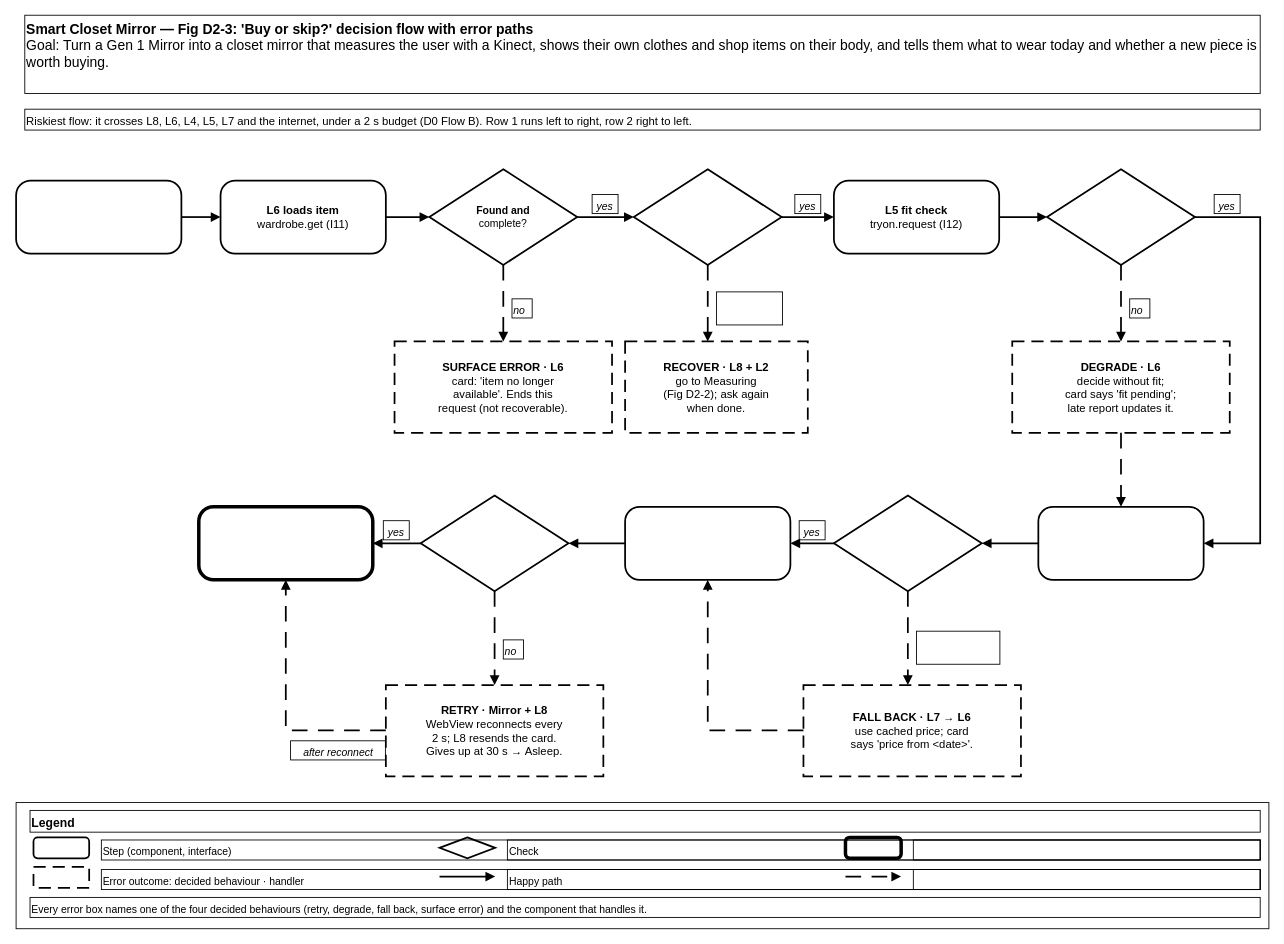
Some shapes in this 1284 by 944 pixel diagram are drawn without their labels. The shapes that lost their labels are listed below. From the top down, each one's centre as x and y in pixels, then its label:
point (98, 216): User asks 'buy or skip?' L8 → L6 (I17)
point (707, 216): Current profile OK?
point (1120, 216): Fit back within 1.5 s?
point (749, 308): no / low confidence
point (285, 543): Card on glass ≤ 2 s after asking
point (494, 543): L8 socket connected?
point (707, 542): L6 verdict algorithm A5
point (907, 543): Price fresh?
point (1120, 542): L7 refreshes price ctx.products (I14b)
point (958, 647): no / provider down
point (1086, 849): Successful end
point (1086, 879): Error path
